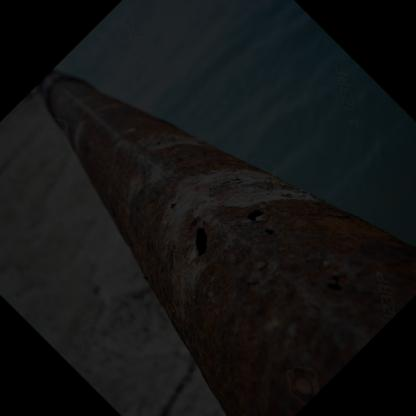burst: (187, 206, 287, 266)
